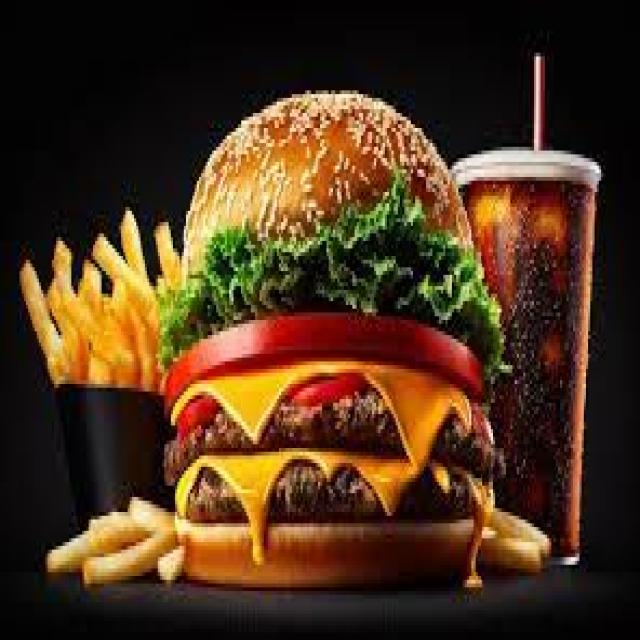햄버거: (164, 94, 499, 584), (19, 211, 175, 591)
